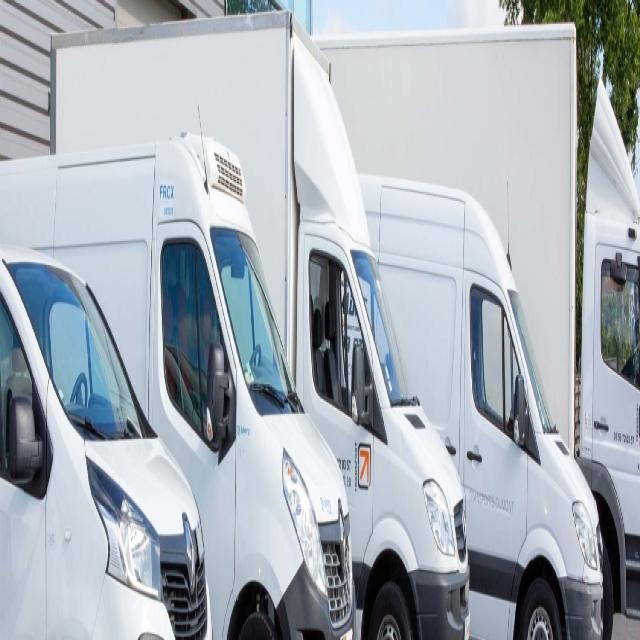minivan: (0, 248, 212, 638)
truck: (0, 120, 357, 636), (356, 171, 604, 636)
